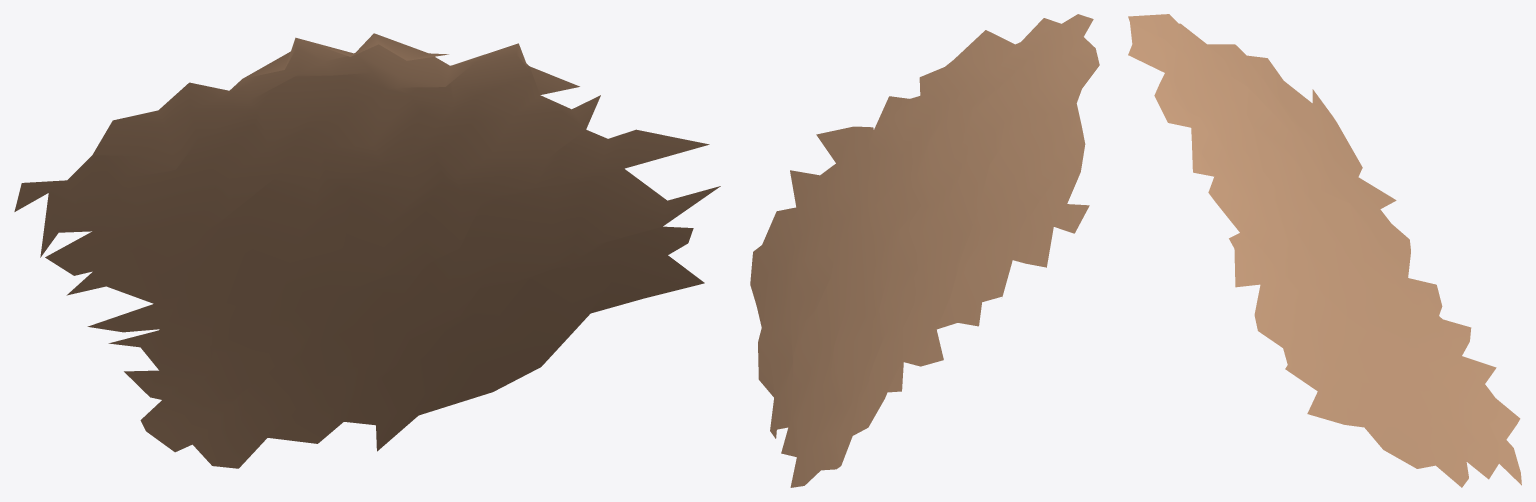
Rendered from pottery_fragment_023.obj.
3 renders of one model, left to right at view 1: azimuth 30°, elevation 25°; view 2: azimuth 150°, elevation 25°; view 3: azimuth 270°, elevation 25°, orthographic. The views are drawn at different scales.
Bounding box in the file's own units: 20.88 × 21.73 × 19.15.
